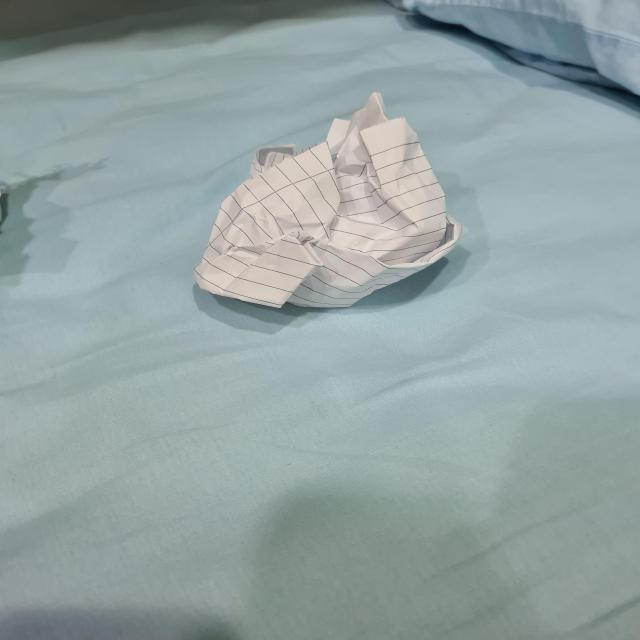kertas: (194, 94, 459, 312)
